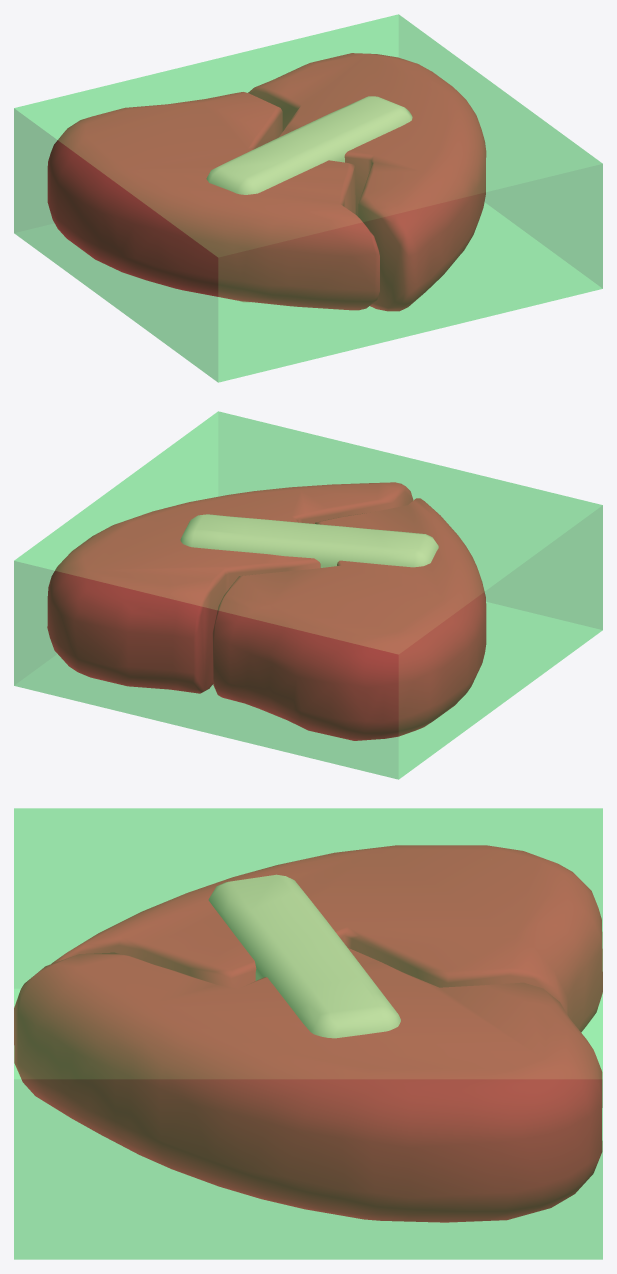
File: Piece_01_BrokenHeart.fbx
3 renders of one model, top to bottom at view 1: azimuth 30°, elevation 25°; view 2: azimuth 150°, elevation 25°; view 3: azimuth 270°, elevation 25°, orthographic. The views are drawn at different scales.
Parts seen in each view (by area): view 1: COL_Piece_01, Piece_01_BrokenHeart; view 2: COL_Piece_01, Piece_01_BrokenHeart; view 3: COL_Piece_01, Piece_01_BrokenHeart.
Part boxes in pixels (x1,y1,x2,y2): COL_Piece_01: [14, 14, 602, 382]; Piece_01_BrokenHeart: [47, 53, 486, 311]; COL_Piece_01: [14, 411, 602, 779]; Piece_01_BrokenHeart: [47, 482, 486, 740]; COL_Piece_01: [14, 808, 602, 1259]; Piece_01_BrokenHeart: [14, 845, 602, 1222].
Bounding box in the file's own units: 0.0784 × 0.0244 × 0.0721.
